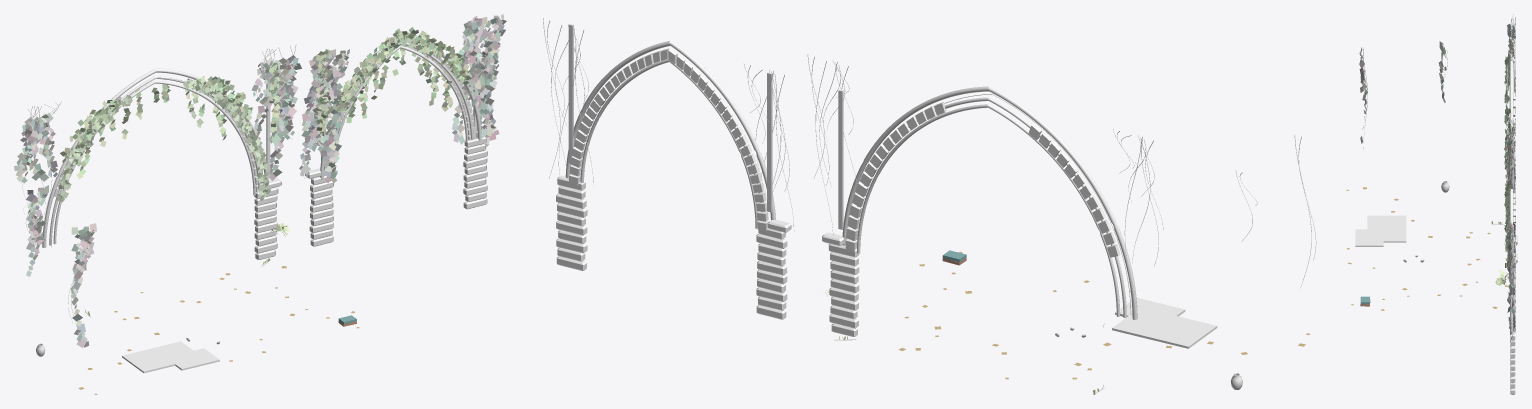
The model's file is camp_hall.glb.
The picture shows the model from 3 angles, left to right: view 1: azimuth 30°, elevation 25°; view 2: azimuth 150°, elevation 25°; view 3: azimuth 270°, elevation 25°; orthographic projection. The views are drawn at different scales.
Parts seen in each view (by area): view 1: camp_hall__foliage_ivy_leaf, camp_hall__limestone, camp_hall__hearth_stone, camp_hall__vine, camp_hall__brass; view 2: camp_hall__limestone, camp_hall__vine, camp_hall__hearth_stone, camp_hall__brass; view 3: camp_hall__foliage_ivy_leaf, camp_hall__limestone, camp_hall__hearth_stone, camp_hall__vine, camp_hall__brass.
Boxes of the visible parts, x1,y1,x2,y2 form: camp_hall__foliage_ivy_leaf: (14,14,506,394); camp_hall__limestone: (42,37,487,259); camp_hall__hearth_stone: (122,341,219,373); camp_hall__vine: (19,16,499,322); camp_hall__brass: (266,20,477,176); camp_hall__limestone: (556,41,1137,336); camp_hall__vine: (543,18,1316,314); camp_hall__hearth_stone: (1112,297,1217,348); camp_hall__brass: (568,23,843,229); camp_hall__foliage_ivy_leaf: (1346,24,1515,341); camp_hall__limestone: (1509,58,1517,394); camp_hall__hearth_stone: (1355,215,1406,246); camp_hall__vine: (1363,14,1515,341); camp_hall__brass: (1512,136,1513,309).
Bounding box in the file's own units: 19.89 × 8.15 × 6.45.
